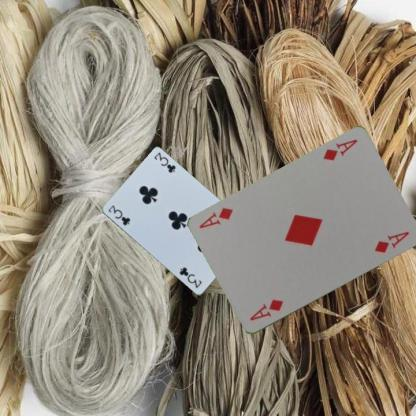3c: (105, 203, 131, 226)
Ad: (321, 136, 358, 162), (247, 297, 285, 322)
